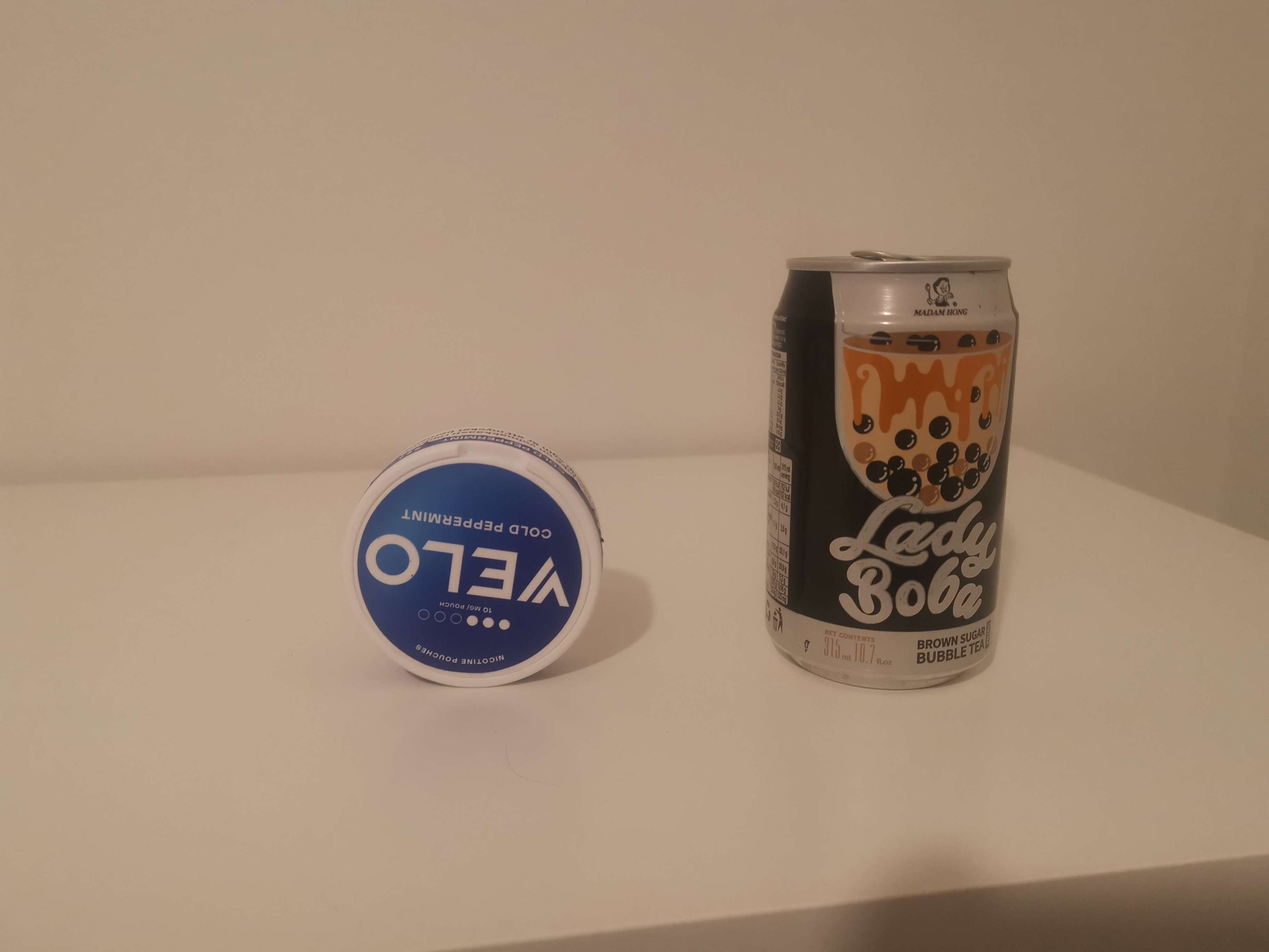Pantburk: (760, 250, 1021, 691)
